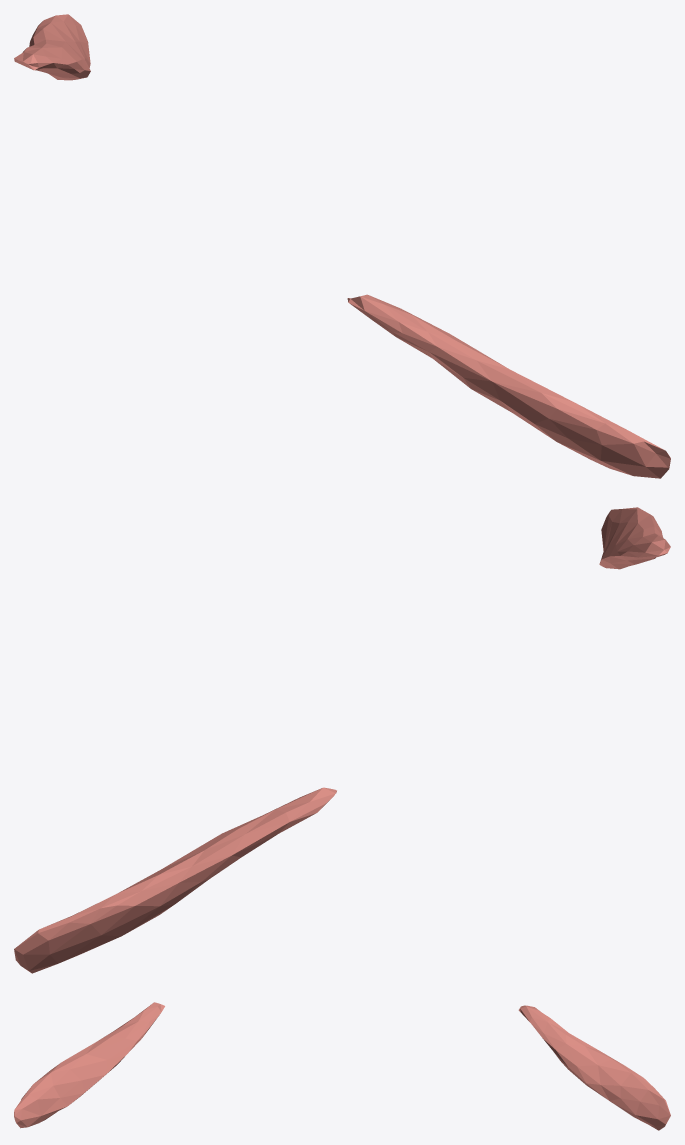
3 renders of one model, top to bottom at view 1: azimuth 30°, elevation 25°; view 2: azimuth 150°, elevation 25°; view 3: azimuth 270°, elevation 25°, orthographic. The views are drawn at different scales.
Parts seen in each view (by area): view 1: 390.obj; view 2: 390.obj; view 3: 390.obj.
Part boxes in pixels (x1,y1,x2,y2): 390.obj: (14,14,670,478); 390.obj: (14,507,670,973); 390.obj: (14,1002,670,1130).
Bounding box in the file's own units: 576 × 407 × 3019.
